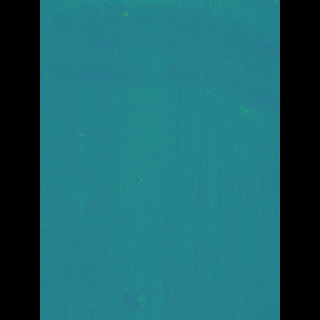Loch: (68, 0, 251, 126), (121, 281, 157, 320)
